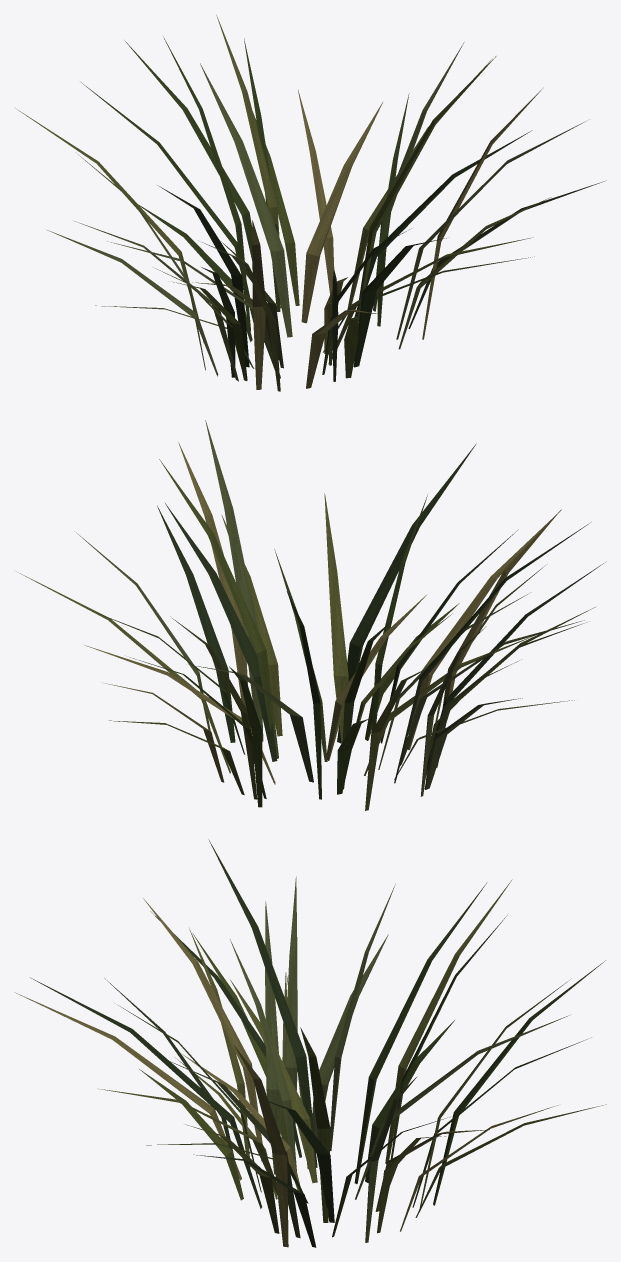
File: grass_tuft_low.glb
3 views of the same model, one above another, from view 1: azimuth 30°, elevation 25°; view 2: azimuth 150°, elevation 25°; view 3: azimuth 270°, elevation 25° (orthographic).
Parts seen in each view (by area): view 1: grass_tuft_low; view 2: grass_tuft_low; view 3: grass_tuft_low.
Boxes of the visible parts, box(x1,y1,x2,y2) form: grass_tuft_low: box(14, 15, 606, 391); grass_tuft_low: box(14, 420, 606, 810); grass_tuft_low: box(14, 839, 606, 1247).
Size of the model in its own units: 0.6337 by 0.3142 by 0.649.
1 material, 1 textured.
